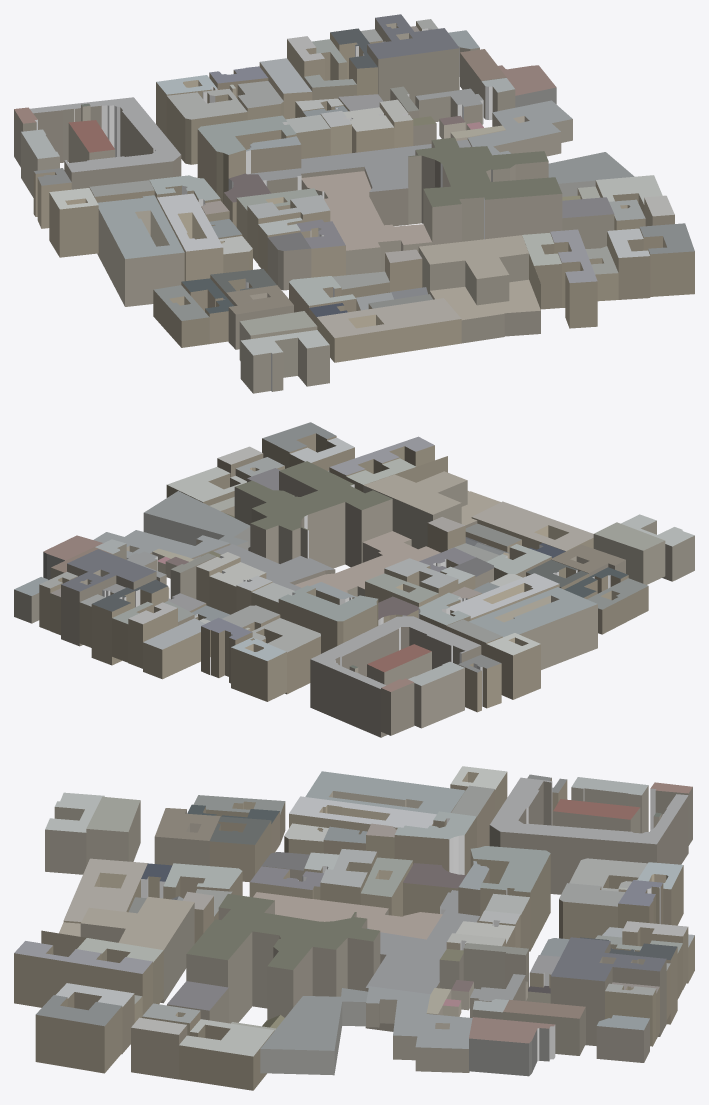
The picture shows the model from 3 angles, top to bottom: view 1: azimuth 30°, elevation 25°; view 2: azimuth 150°, elevation 25°; view 3: azimuth 270°, elevation 25°; orthographic projection. The views are drawn at different scales.
Parts seen in each view (by area): view 1: tuile; view 2: tuile; view 3: tuile.
Boxes of the visible parts, <box> form: tuile: <box>14,14,694,393</box>; tuile: <box>14,422,694,737</box>; tuile: <box>14,766,694,1090</box>.
Bounding box in the file's own units: 268 × 40.98 × 281.
